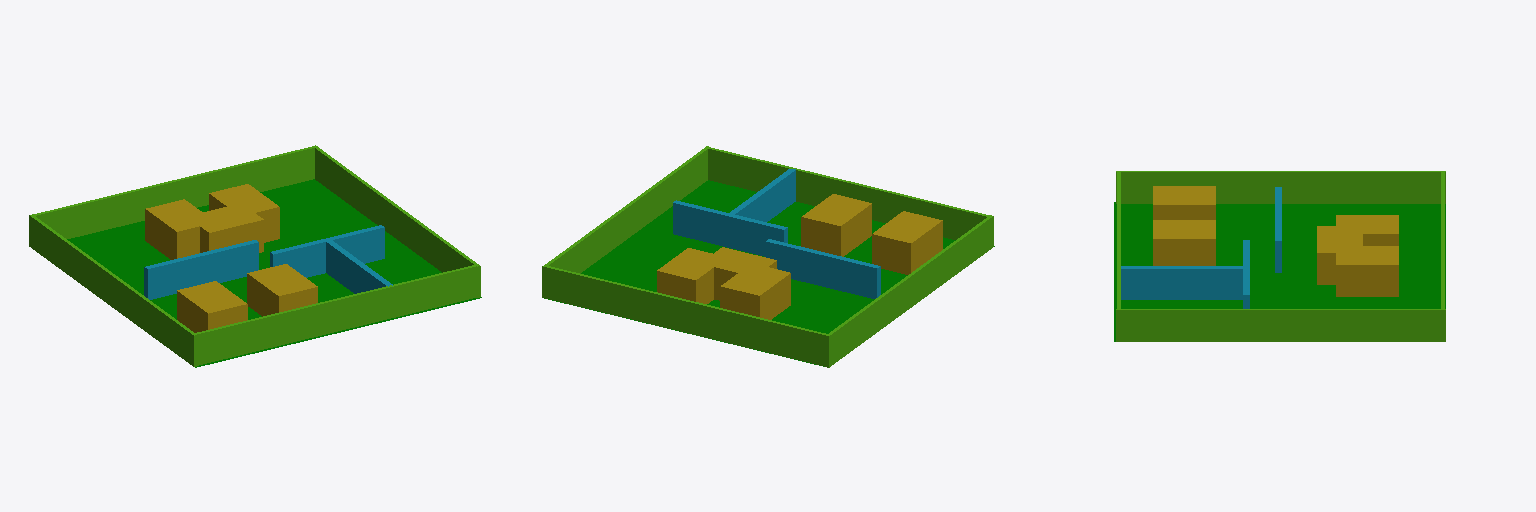
File: level_test.obj
3 views of the same model, side by side, from view 1: azimuth 30°, elevation 25°; view 2: azimuth 150°, elevation 25°; view 3: azimuth 270°, elevation 25° (orthographic).
Parts seen in each view (by area): view 1: Plane001, Box004, Box003, Box001, Box002, Box006, Box010, Box007, Box008, Box005, Box011, Box009 (+1 smaller); view 2: Plane001, Box003, Box004, Box001, Box002, Box006, Box010, Box007, Box005, Box008, Box012, Box009 (+1 smaller); view 3: Plane001, Box002, Box001, Box009, Box012, Box007, Box005, Box011, Box008, Box003, Box004, Box006.
Boxes of the visible parts, box(x1,y1,x2,y2) form: Plane001: box(67, 179, 481, 367); Box004: box(195, 265, 476, 365); Box003: box(33, 146, 317, 238); Box001: box(29, 214, 196, 366); Box002: box(313, 145, 480, 297); Box006: box(144, 240, 258, 299); Box010: box(270, 225, 384, 277); Box007: box(247, 264, 317, 316); Box008: box(145, 199, 211, 259); Box005: box(177, 281, 247, 332); Box011: box(189, 203, 263, 252); Box009: box(325, 240, 392, 293); Plane001: box(544, 180, 994, 366); Box003: box(542, 265, 829, 366); Box004: box(706, 146, 990, 239); Box001: box(826, 215, 993, 367); Box002: box(543, 146, 708, 298); Box006: box(766, 239, 880, 298); Box010: box(673, 200, 787, 256); Box007: box(801, 194, 871, 256); Box005: box(872, 211, 942, 274); Box008: box(720, 263, 790, 319); Box012: box(657, 248, 725, 303); Box009: box(730, 169, 795, 221); Plane001: box(1114, 202, 1445, 341); Box002: box(1116, 309, 1445, 341); Box001: box(1116, 171, 1445, 203); Box009: box(1121, 266, 1247, 299); Box012: box(1336, 246, 1398, 296); Box007: box(1153, 220, 1215, 265); Box005: box(1153, 186, 1215, 219); Box011: box(1317, 226, 1362, 284); Box008: box(1336, 215, 1398, 245); Box003: box(1441, 172, 1444, 341); Box004: box(1117, 172, 1120, 341); Box006: box(1275, 187, 1281, 272).
Bounding box in the file's own units: 20.01 × 2.15 × 20.